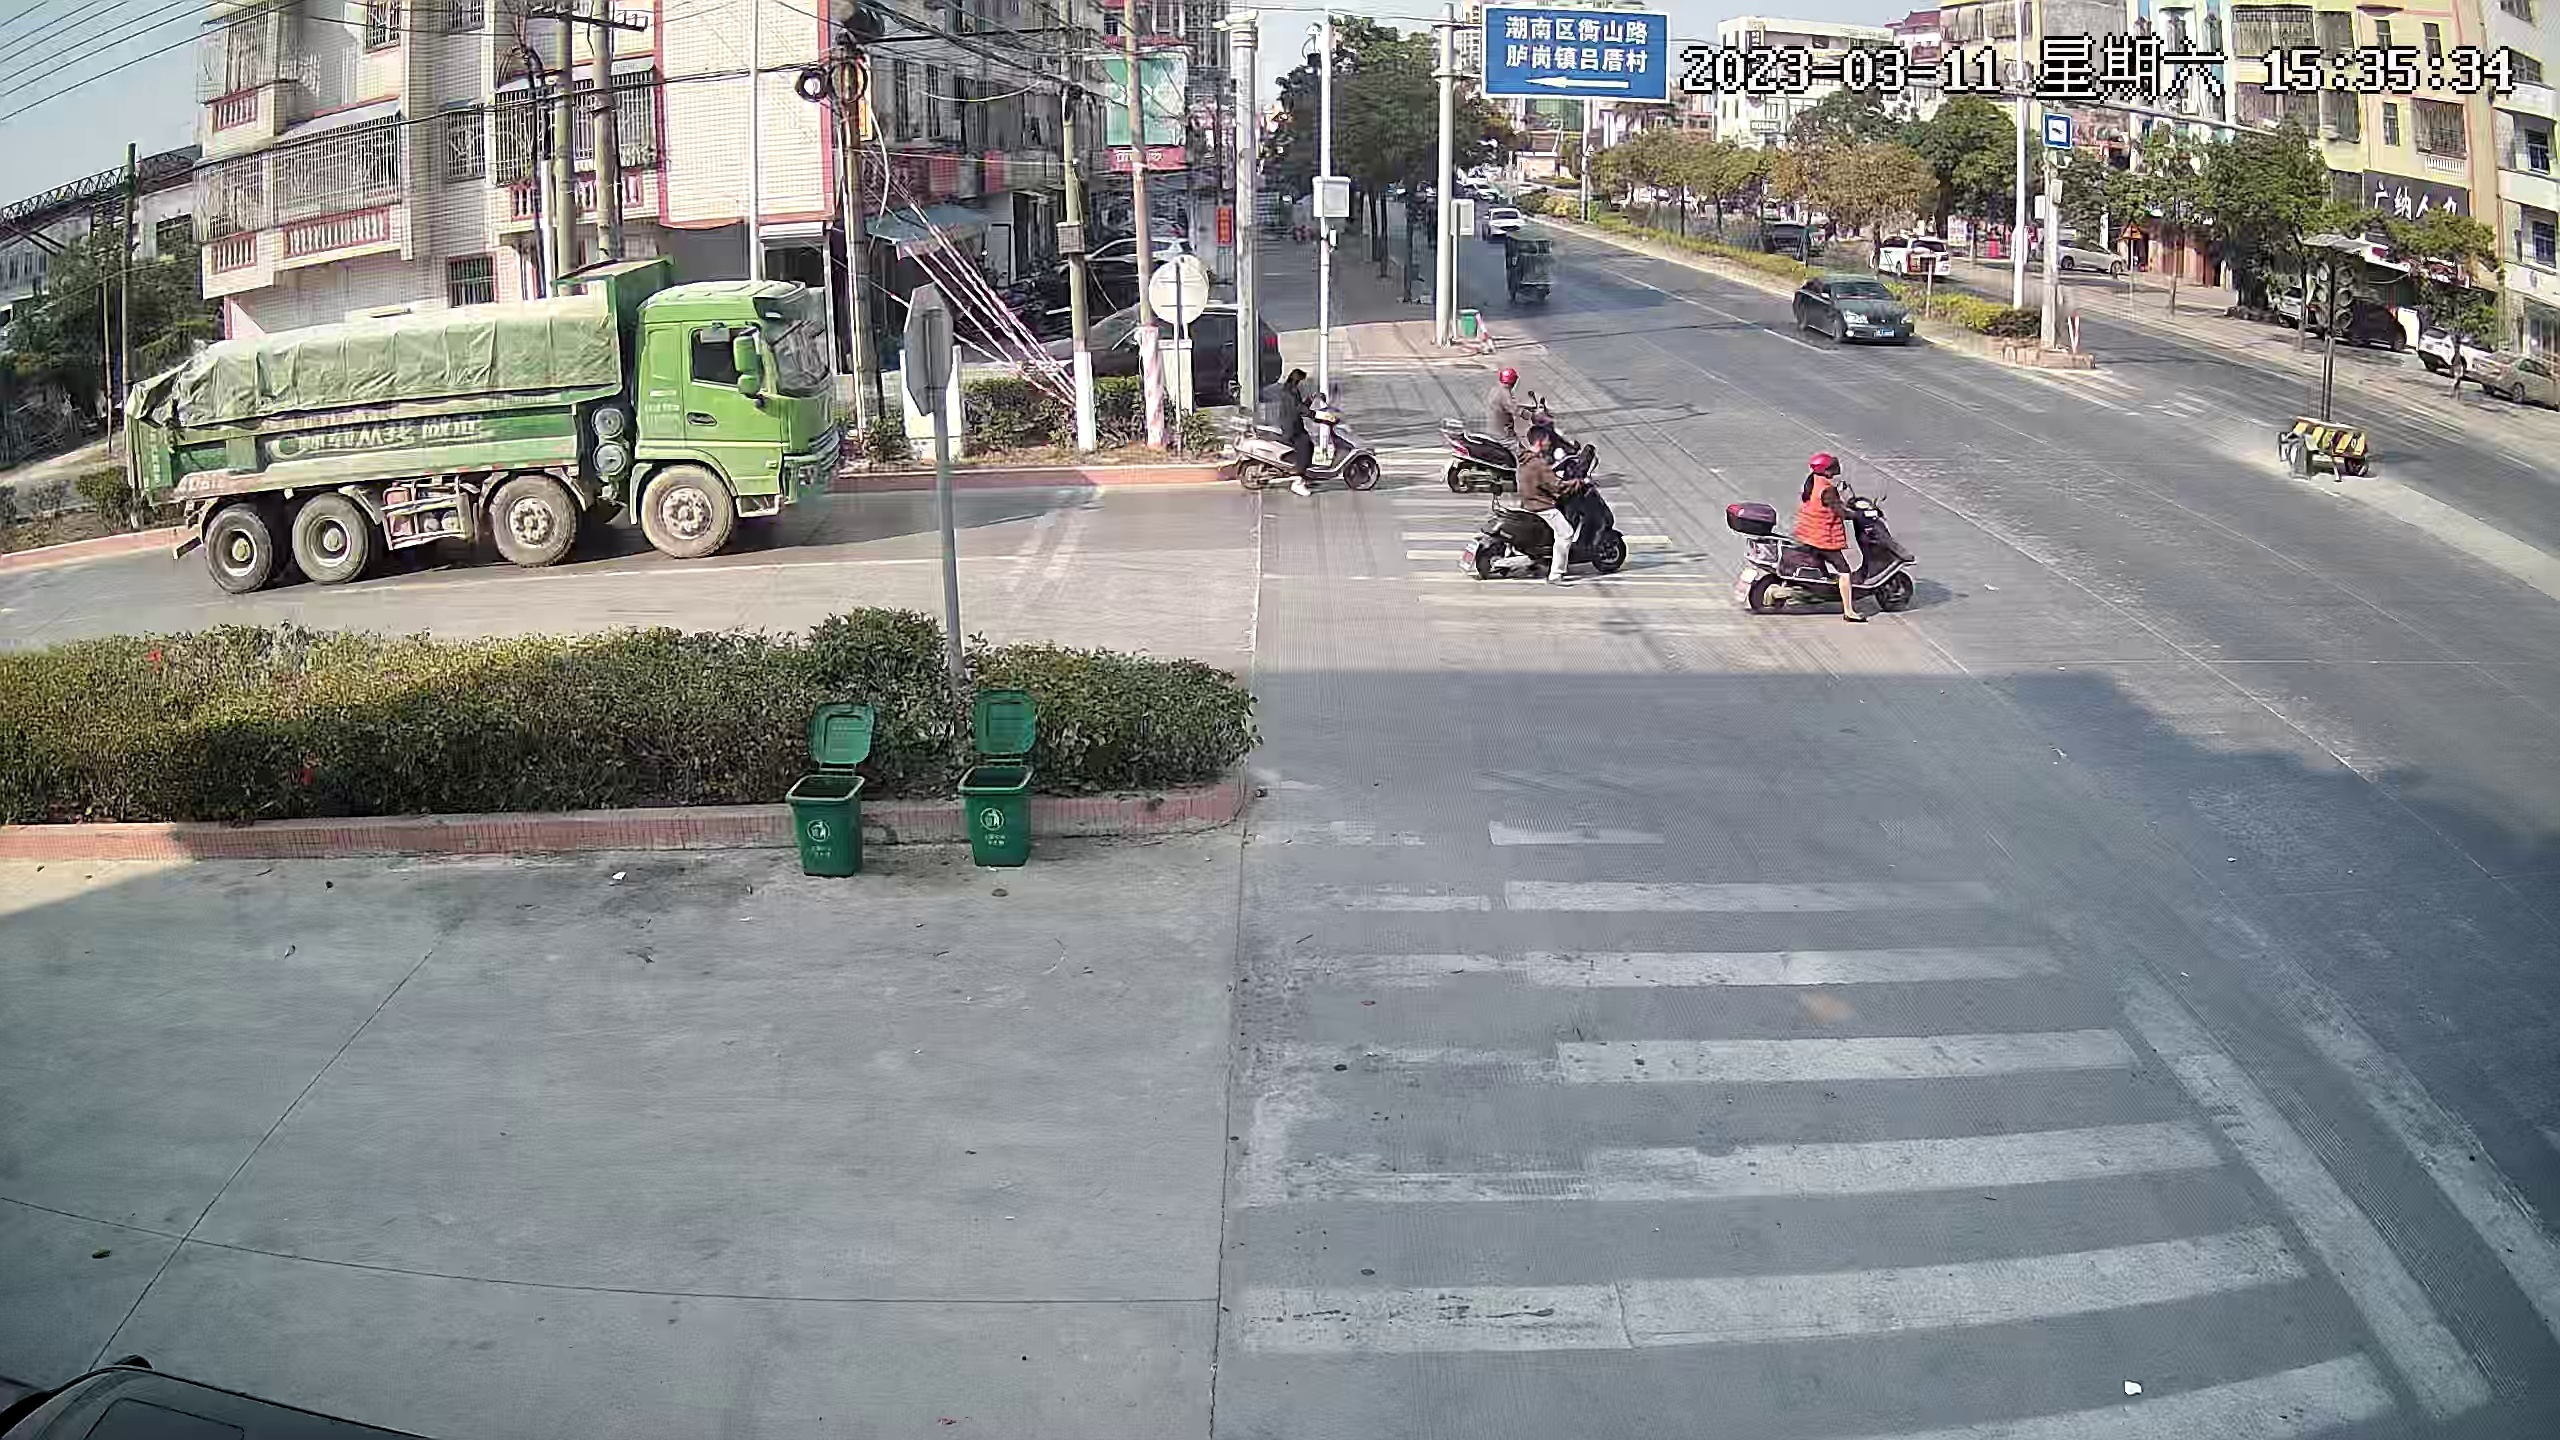motorcycle: (1734, 447, 1924, 628), (1500, 422, 1623, 593), (1238, 364, 1384, 498), (1447, 348, 1514, 489)
sedan: (5, 1349, 424, 1440), (1797, 267, 1915, 348), (2041, 227, 2122, 278), (1878, 232, 1946, 283), (2490, 346, 2548, 406), (2423, 318, 2462, 383), (1484, 209, 1519, 230)
suv: (1043, 313, 1278, 396), (1051, 255, 1150, 311)
tricycle: (1503, 222, 1554, 318)
truck: (128, 304, 825, 566)
